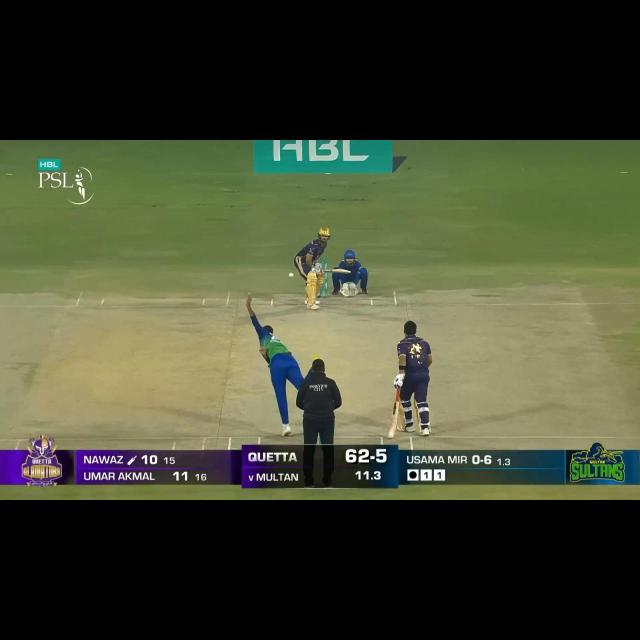bat: (386, 402, 400, 439), (323, 265, 352, 276)
toe: (388, 430, 396, 438), (345, 268, 352, 275)
